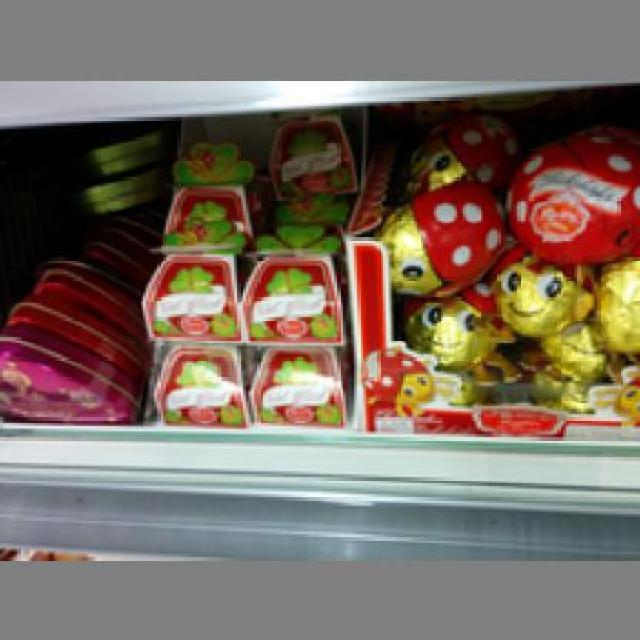Merendine: (506, 123, 637, 266), (351, 187, 495, 290), (1, 323, 137, 423), (230, 249, 346, 340), (124, 252, 248, 336), (146, 334, 243, 429), (231, 337, 340, 420), (397, 286, 503, 369), (488, 243, 584, 334), (157, 183, 249, 240)
